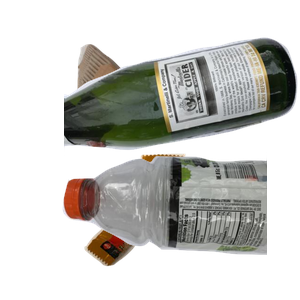cardboard: (74, 42, 225, 170)
glass: (64, 35, 300, 181)
plastic: (60, 152, 300, 300)
trash: (82, 151, 260, 300)
